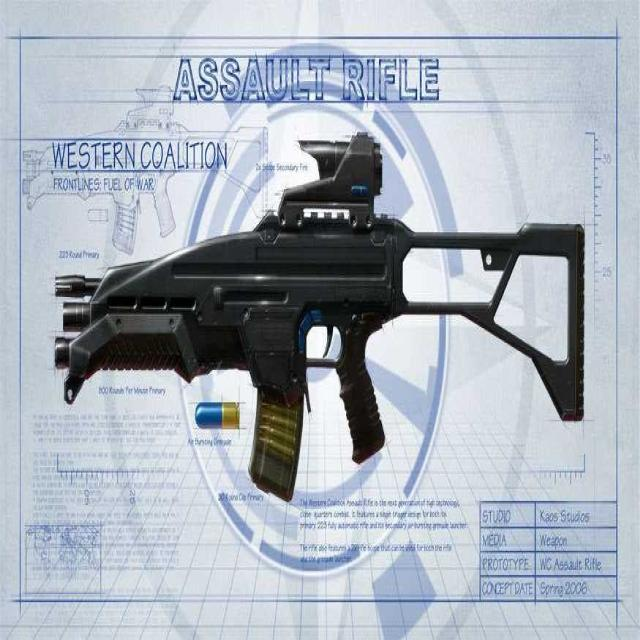RifleTel: (53, 134, 594, 496)
